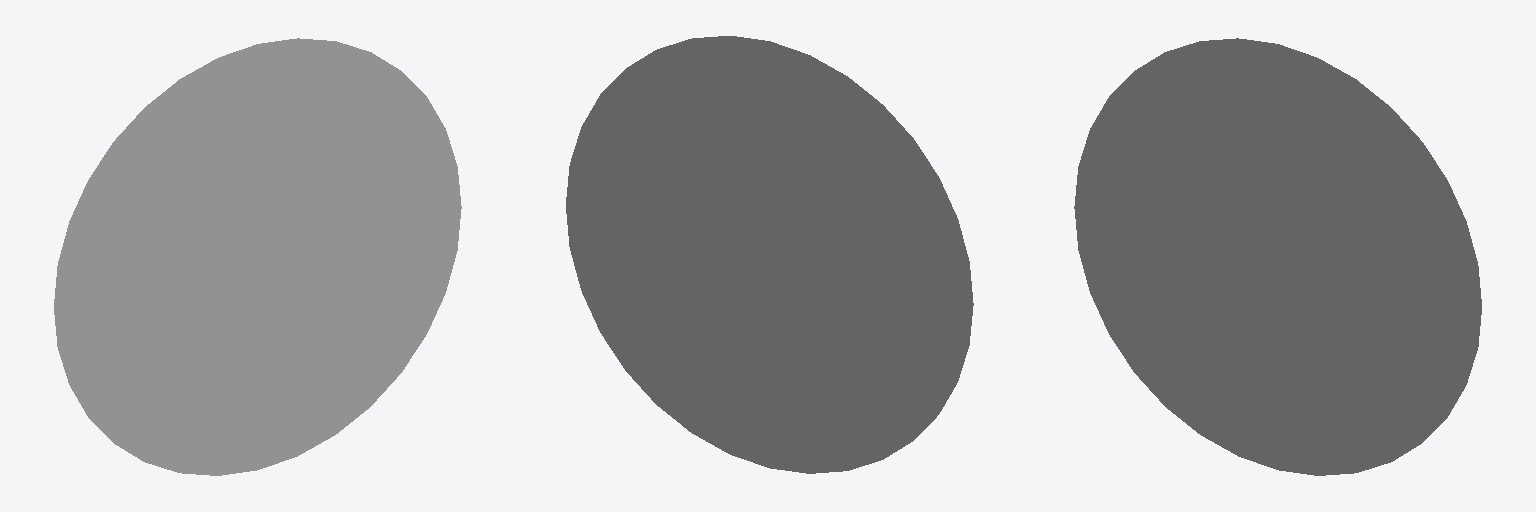
Rendered from enemy1.obj.
The picture shows the model from 3 angles: view 1: azimuth 30°, elevation 25°; view 2: azimuth 150°, elevation 25°; view 3: azimuth 330°, elevation 25°; orthographic projection.
Parts seen in each view (by area): view 1: Circle.001_Circle.002; view 2: Circle_Circle.001, Circle.001_Circle.002; view 3: Circle.001_Circle.002.
Part boxes in pixels (bbox=[...]): Circle.001_Circle.002: bbox=[54, 38, 461, 475]; Circle_Circle.001: bbox=[583, 61, 949, 454]; Circle.001_Circle.002: bbox=[566, 36, 973, 473]; Circle.001_Circle.002: bbox=[1074, 38, 1481, 475].
Bounding box in the file's own units: 2.6 × 2.6 × 0.0416.